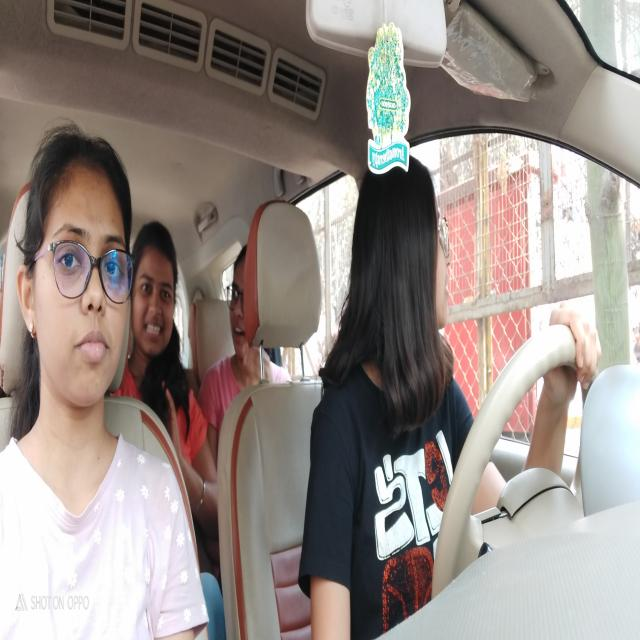LeftRight: (351, 158, 454, 406)
person: (16, 127, 135, 418), (133, 212, 178, 366), (226, 236, 250, 362)
